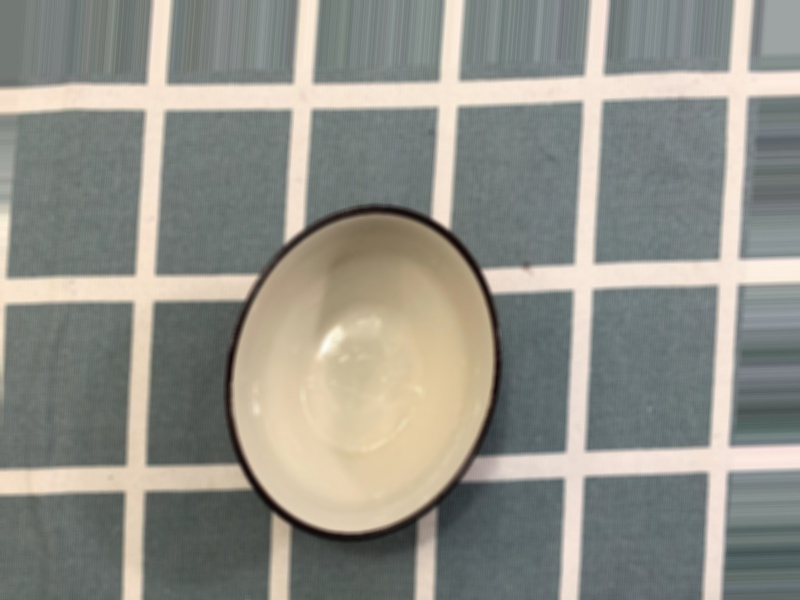bowl_small: (205, 193, 522, 555)
